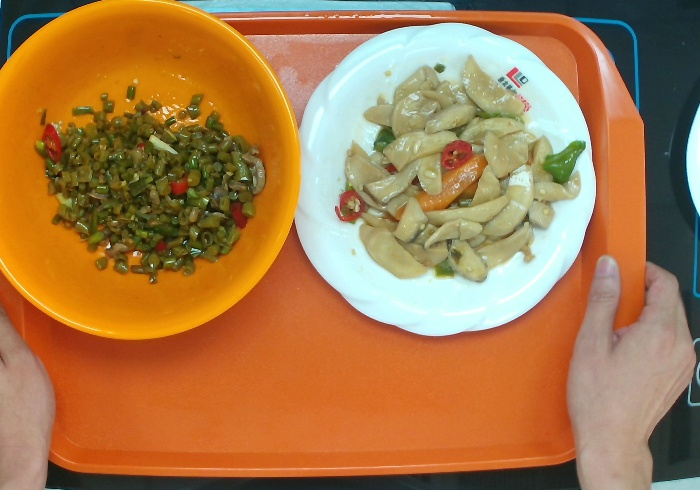ZNLD-Hua_Bian_Wan: (287, 13, 615, 344)
ZNLD-Ju_Se_Tang_Wan: (1, 1, 323, 346)
